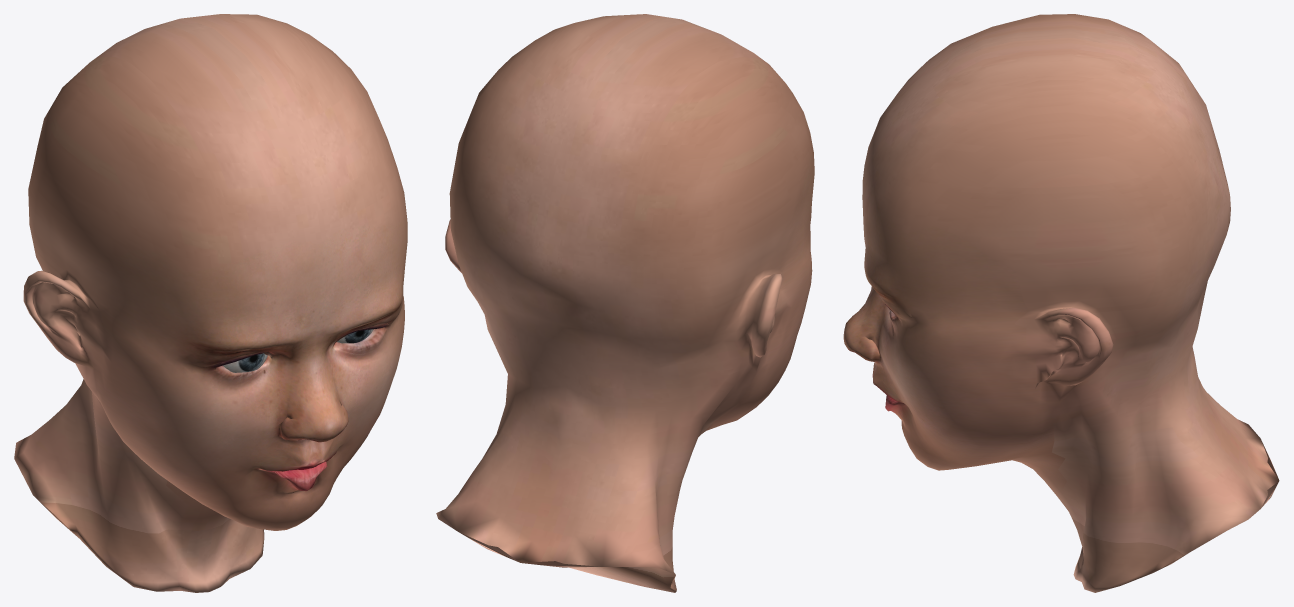
File: Goo.fbx
3 views of the same model, side by side, from view 1: azimuth 30°, elevation 25°; view 2: azimuth 150°, elevation 25°; view 3: azimuth 270°, elevation 25° (orthographic). The views are drawn at different scales.
Visible parts, largest first — view 1: Anakin, Eye01.Eye; view 2: Anakin; view 3: Anakin.
Boxes of the visible parts, <box> form: Anakin: <box>14,14,407,592</box>; Eye01.Eye: <box>223,353,267,372</box>; Anakin: <box>436,14,814,592</box>; Anakin: <box>843,14,1279,592</box>.
Bounding box in the file's own units: 470 × 741 × 543.
Materials: 3 (3 with a texture image).
